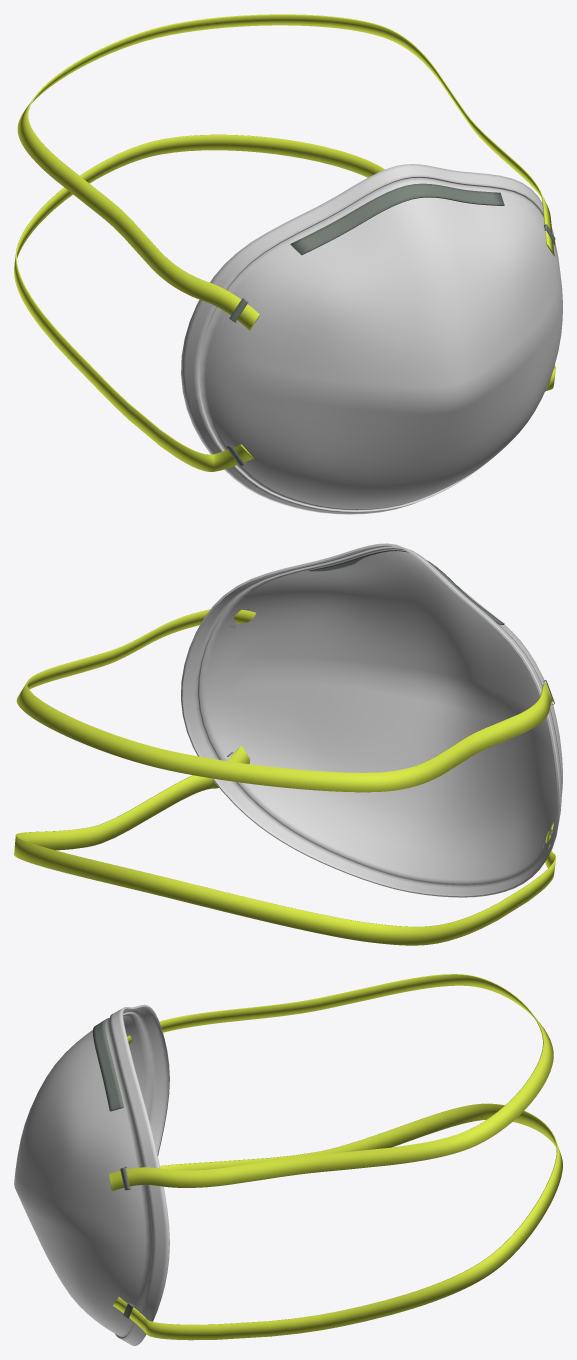
Rendered from mask2_test.fbx.
The picture shows the model from 3 angles, top to bottom: view 1: azimuth 30°, elevation 25°; view 2: azimuth 150°, elevation 25°; view 3: azimuth 270°, elevation 25°; orthographic projection. The views are drawn at different scales.
Parts seen in each view (by area): view 1: Mask_N95_Body.002, Mask_N95_Strap_Up.002, Mask_N95_Strap_Down.002, Mask_N95_NoseClip.002; view 2: Mask_N95_Body.002, Mask_N95_Strap_Down.002, Mask_N95_Strap_Up.002, Mask_N95_NoseClip.002; view 3: Mask_N95_Body.002, Mask_N95_Strap_Up.002, Mask_N95_Strap_Down.002, Mask_N95_NoseClip.002.
Boxes of the visible parts, <box> form: Mask_N95_Body.002: <box>181,164,562,514</box>; Mask_N95_Strap_Up.002: <box>17,14,554,330</box>; Mask_N95_Strap_Down.002: <box>14,134,555,471</box>; Mask_N95_NoseClip.002: <box>290,183,504,255</box>; Mask_N95_Body.002: <box>181,543,562,897</box>; Mask_N95_Strap_Down.002: <box>14,745,556,945</box>; Mask_N95_Strap_Up.002: <box>16,609,553,792</box>; Mask_N95_NoseClip.002: <box>308,550,504,625</box>; Mask_N95_Body.002: <box>14,1004,169,1345</box>; Mask_N95_Strap_Up.002: <box>109,974,553,1191</box>; Mask_N95_Strap_Down.002: <box>112,1103,562,1340</box>; Mask_N95_NoseClip.002: <box>92,1018,123,1111</box>.
Size of the model in its own units: 6869 by 5754 by 9243.
